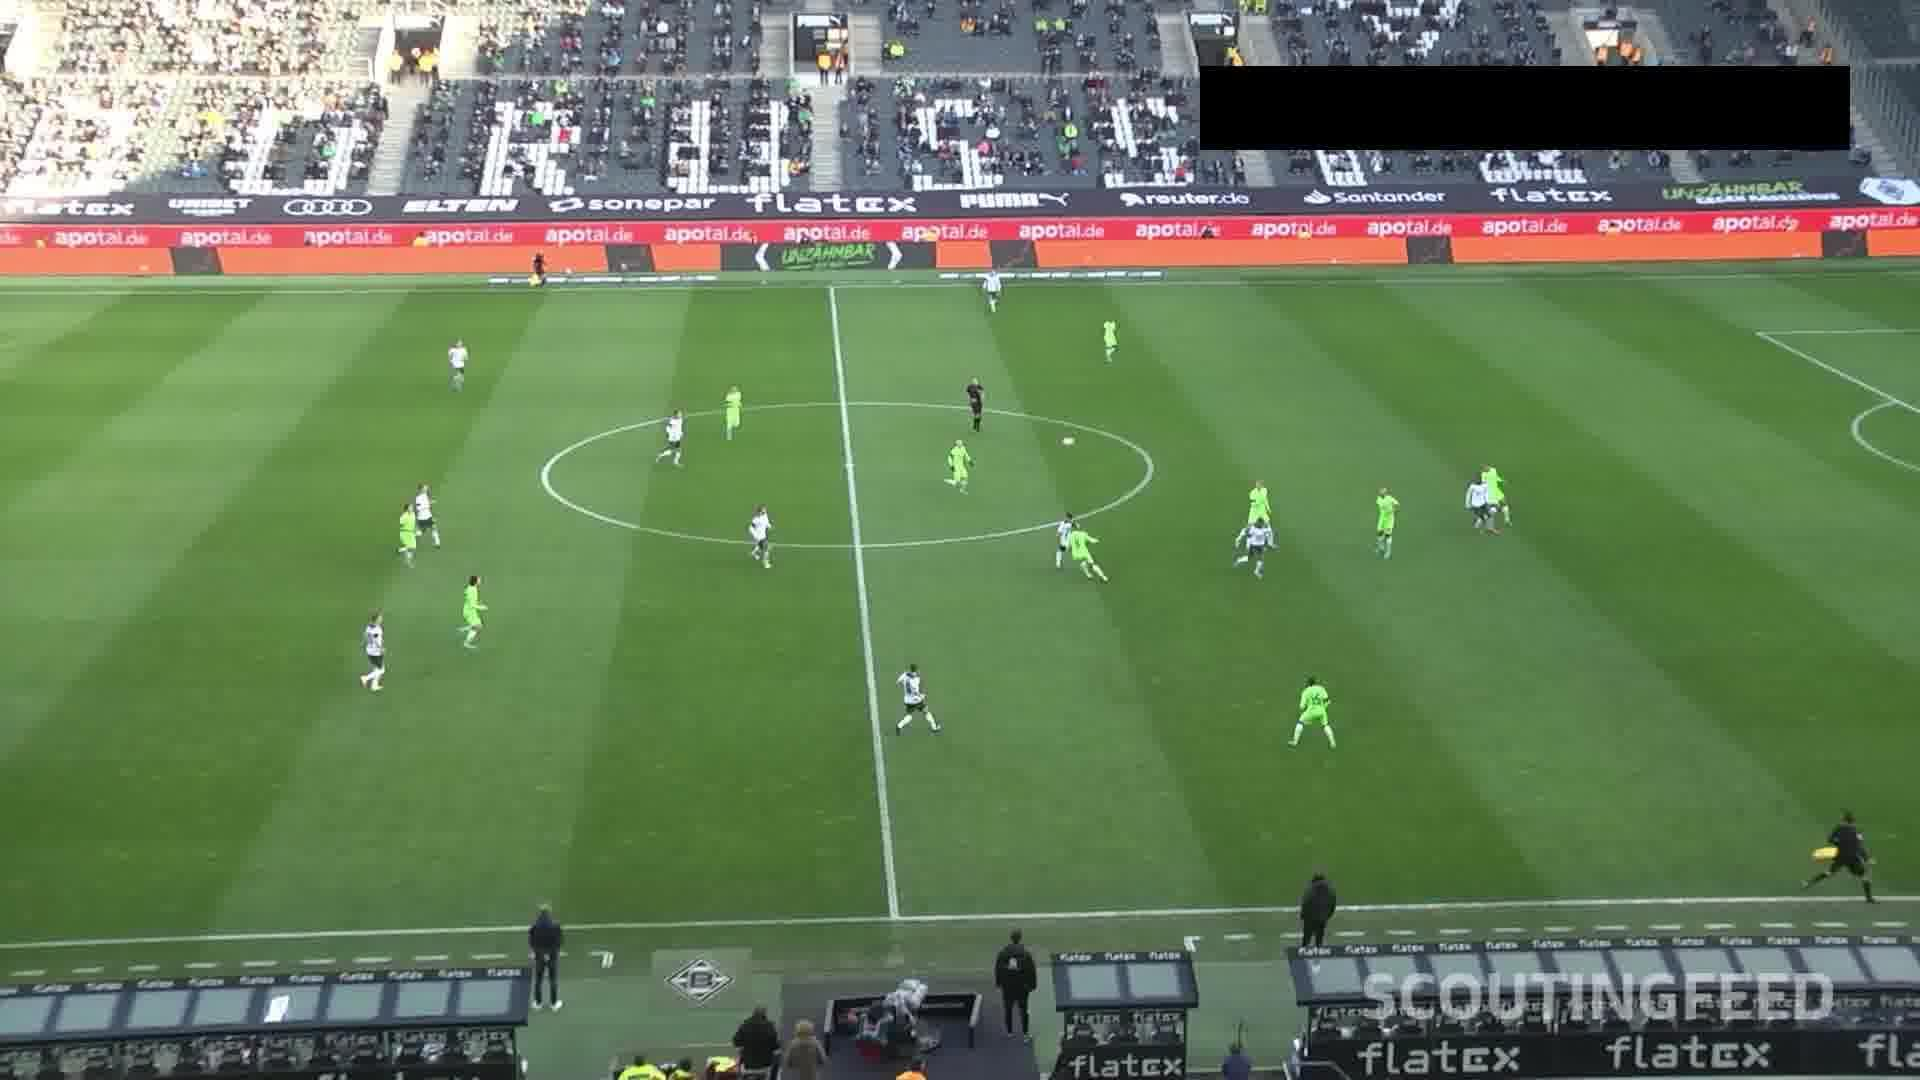football: (1060, 436, 1077, 447)
